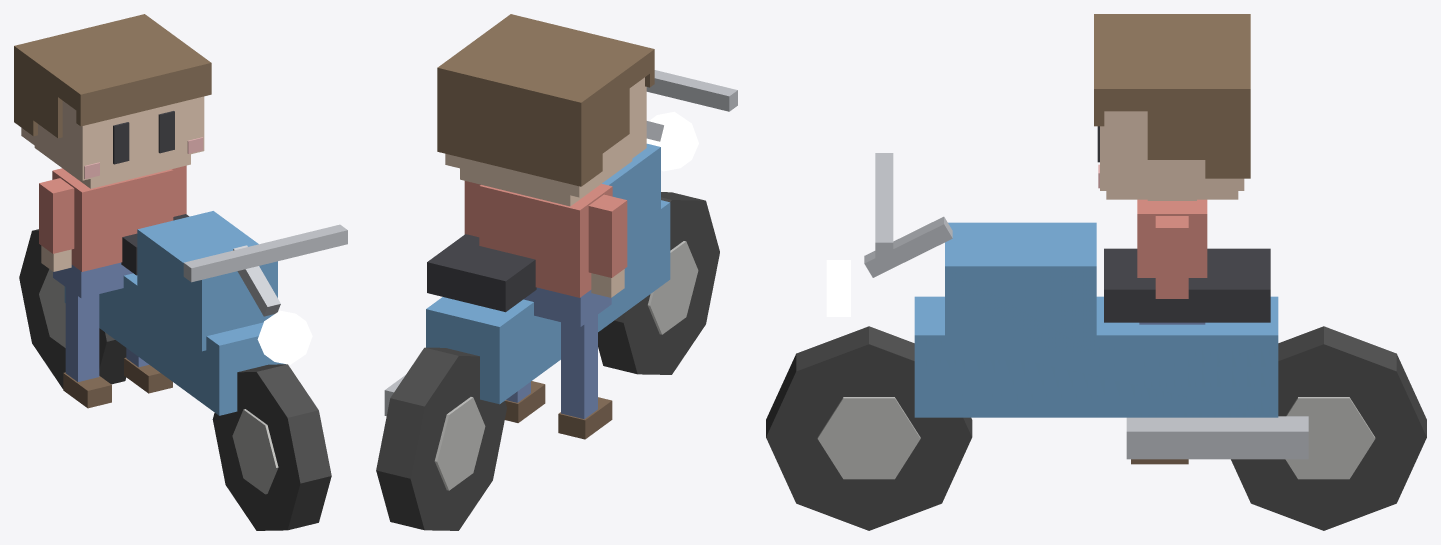
The model's file is motorcycle.glb.
The picture shows the model from 3 angles, left to right: view 1: azimuth 30°, elevation 25°; view 2: azimuth 150°, elevation 25°; view 3: azimuth 270°, elevation 25°; orthographic projection. The views are drawn at different scales.
Visible parts, largest first — view 1: motorcycle; view 2: motorcycle; view 3: motorcycle.
Part boxes in pixels (x1=…): motorcycle: x1=14, y1=14, x2=347, y2=530; motorcycle: x1=376, y1=14, x2=737, y2=530; motorcycle: x1=766, y1=14, x2=1426, y2=530.
Bounding box in the file's own units: 0.7852 × 1.65 × 2.18.
